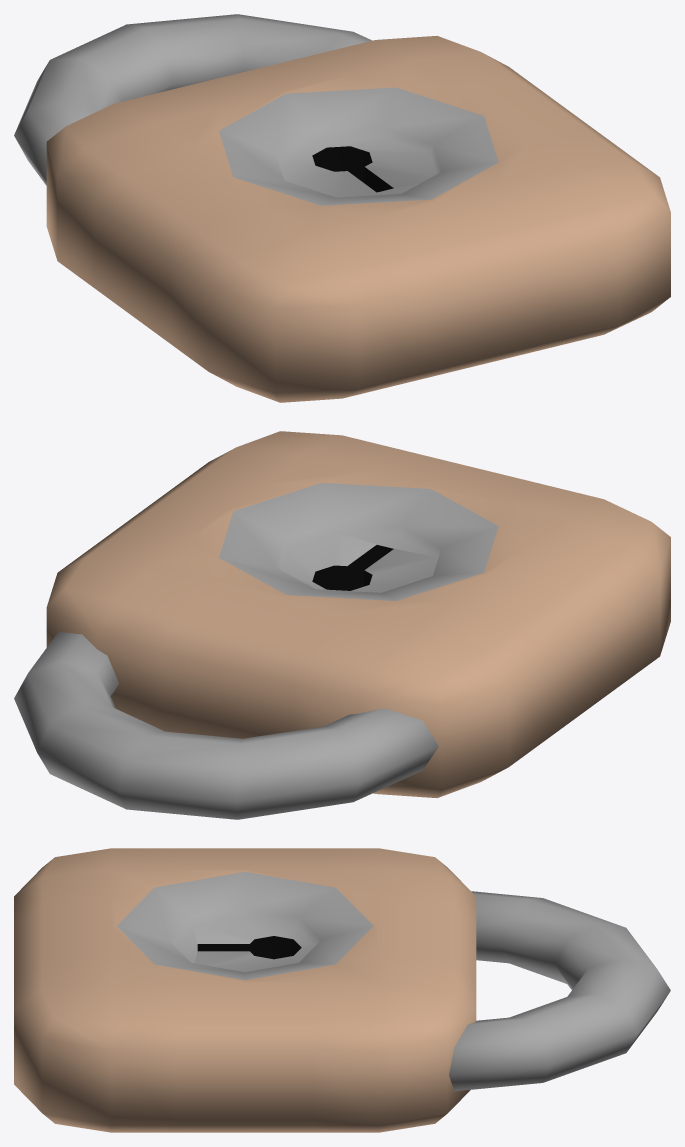
Rendered from Lock.fbx.
3 views of the same model, one above another, from view 1: azimuth 30°, elevation 25°; view 2: azimuth 150°, elevation 25°; view 3: azimuth 270°, elevation 25° (orthographic). The views are drawn at different scales.
Parts seen in each view (by area): view 1: Cube, Torus; view 2: Cube, Torus; view 3: Cube, Torus.
Boxes of the visible parts, x1,y1,x2,y2 form: Cube: (46,36,670,402); Torus: (14,14,371,185); Cube: (46,431,670,797); Torus: (14,631,438,819); Cube: (14,848,476,1132); Torus: (449,891,670,1091).
Size of the model in its own units: 184 by 56.71 by 262.
